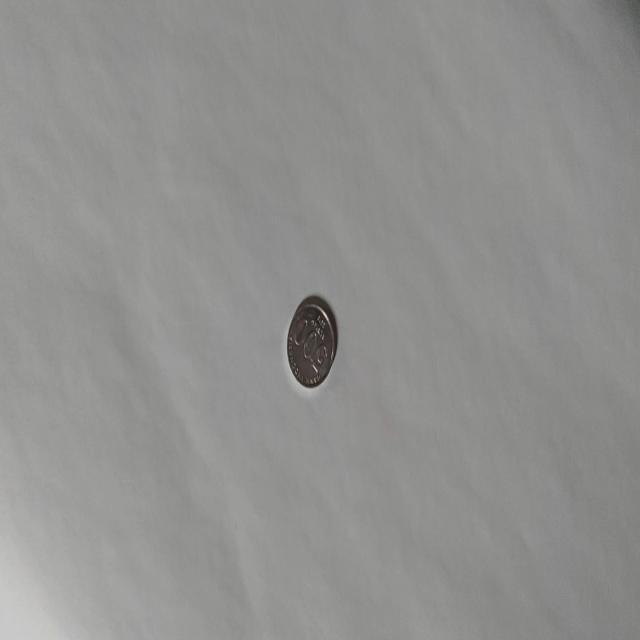lima ratus rupiah: (286, 295, 336, 389)
